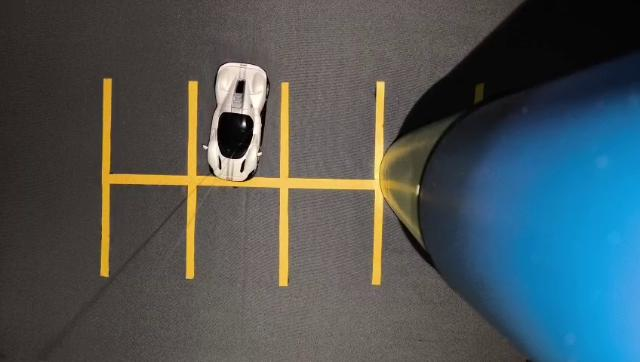toy_car: (183, 41, 278, 200)
